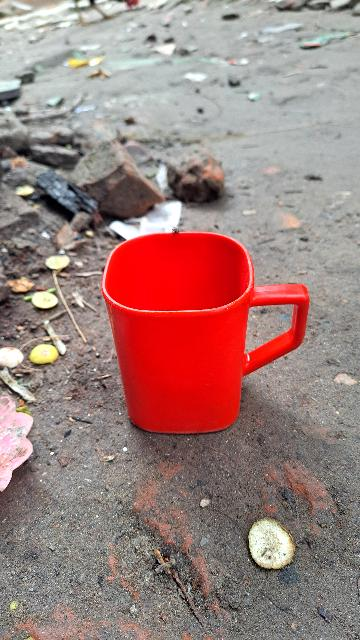hardplastic: (106, 236, 287, 437)
